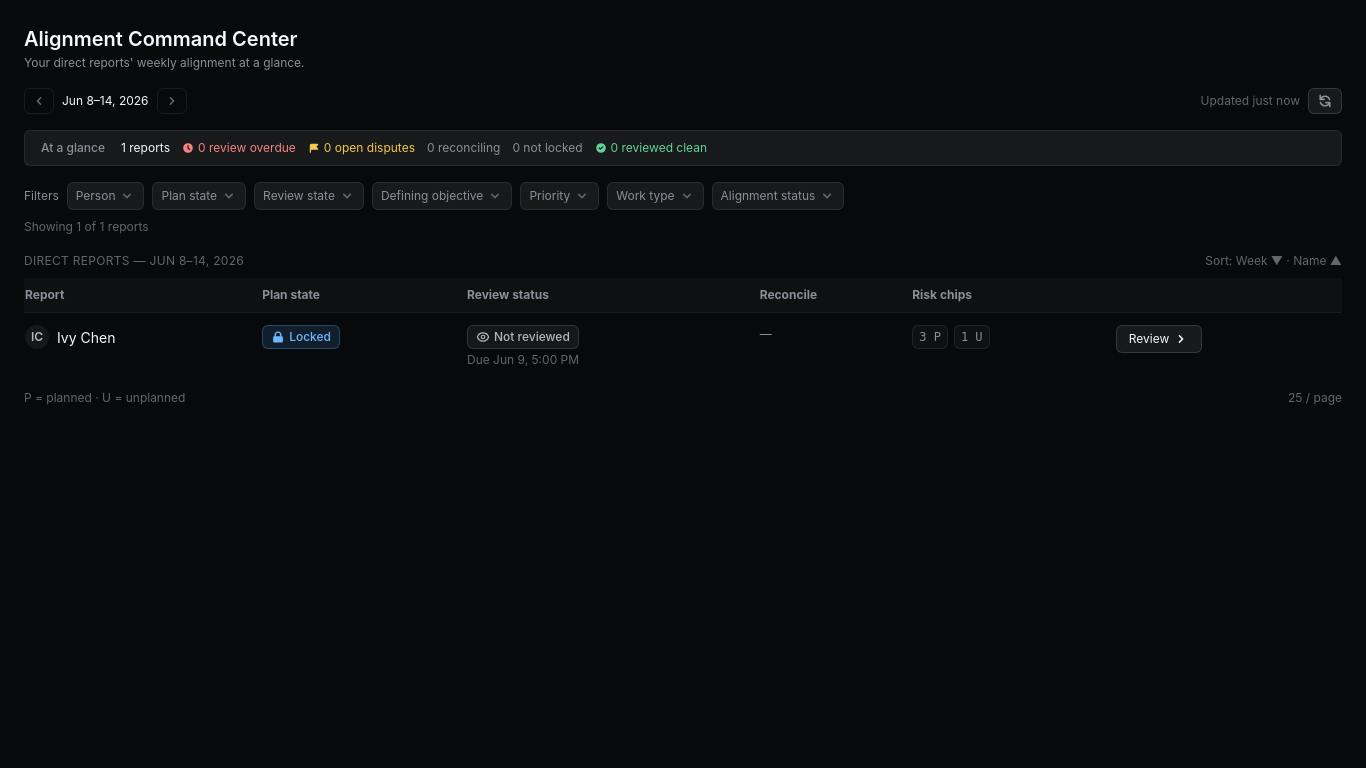
CommandCenter (E13 roll-up — rows, view-states, pagination, mark-reviewed reach) › mark_reviewed_reachable_from_command_center: expanding a row lazily fetches its plan (E4 manager-of-owner) and surfaces MarkReviewedAction gated on managerRevie
Expected: the button "mark reviewed" is not shown
Click the button "Review".
click(1159, 339)  # box [1116,325,1202,353]
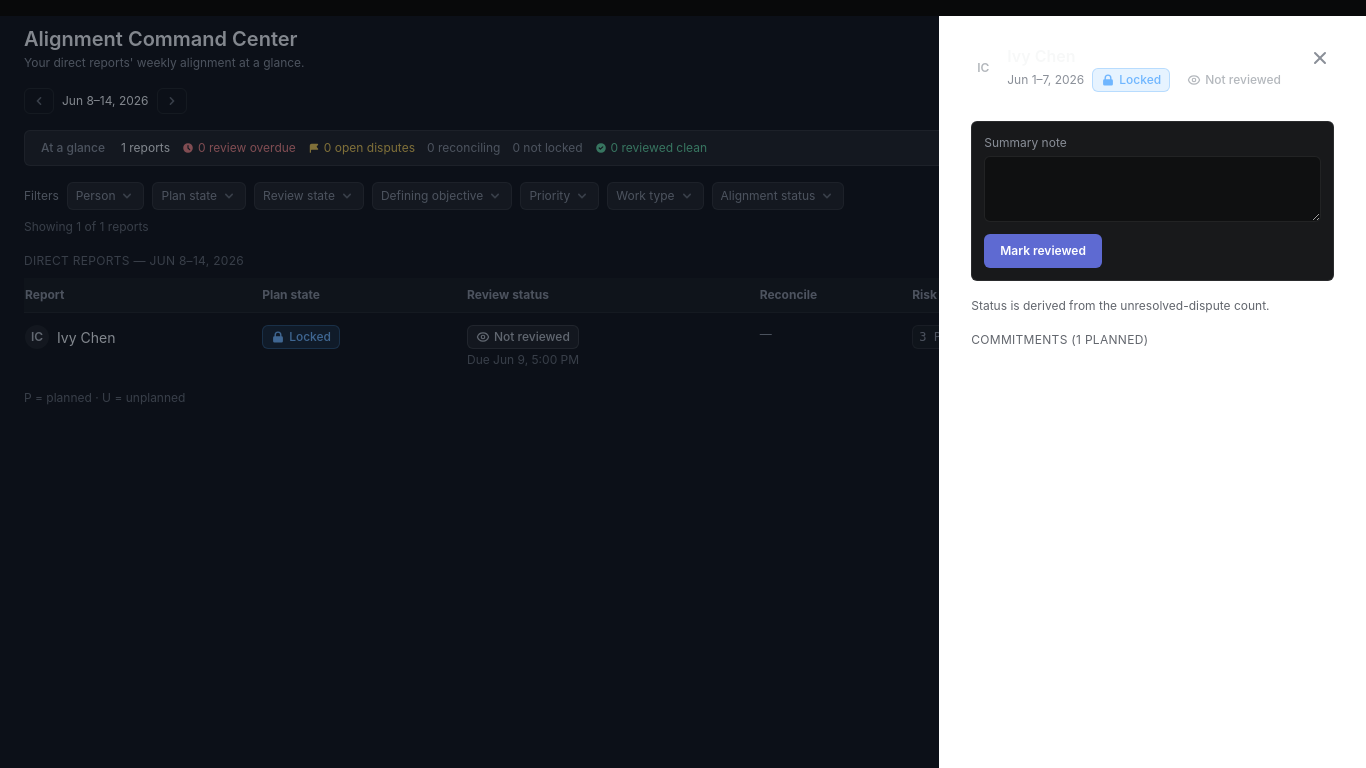
Result: the button "Mark reviewed" is shown at [984,234,1102,268]
